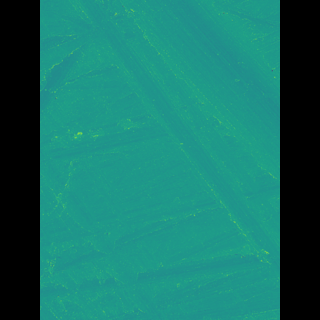Loch: (91, 0, 250, 288), (68, 118, 167, 320)
